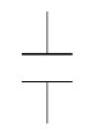Capacitor: (14, 39, 80, 97)
